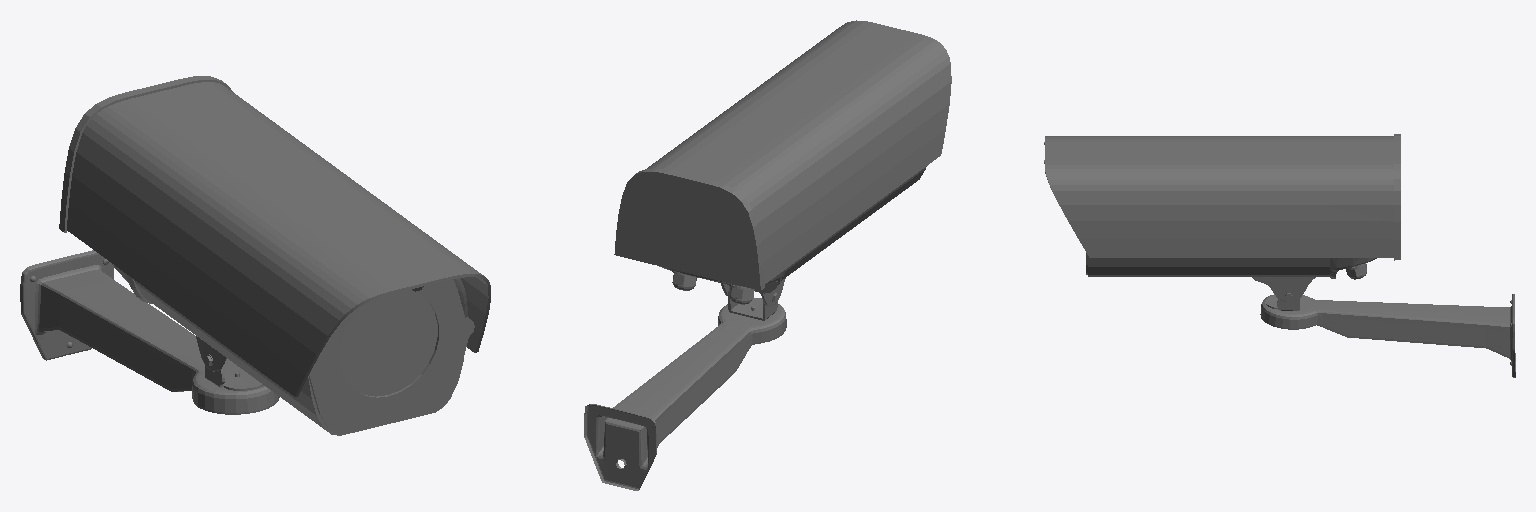
URDF robot description (generic_ip_camera):
<?xml version="1.0"?>
<robot name="generic_ip_camera">

  <link name="ip_camera_link">
  
    <visual>
      <origin xyz="0 0 0" rpy="0 0 0"/>
      <geometry>
        <mesh filename="package://Generic_IP_camera/meshes/IPCamera21.stl" scale="0.001 0.001 0.001"/>
      </geometry>
      <material name="gray">
        <color rgba="0.5 0.5 0.5 1.0"/>
      </material>
    </visual>

    <collision>
      <origin xyz="0 0 0" rpy="0 0 0"/>
      <geometry>
        <mesh filename="package://Generic_IP_camera/meshes/IPCamera21.stl" scale="0.001 0.001 0.001"/>
      </geometry>
    </collision>

    <inertial>
      <mass value="0.15"/>
      <origin xyz="0 0 0" rpy="0 0 0"/>
      <inertia
        ixx="0.0001" ixy="0.0" ixz="0.0"
        iyy="0.0001" iyz="0.0"
        izz="0.0001"/>
    </inertial>
    
  </link>

</robot>

--- Render facts (derived) ---
Views: 3 orthographic renders of the robot side by side, from view 1: azimuth 30°, elevation 25°; view 2: azimuth 150°, elevation 25°; view 3: azimuth 270°, elevation 25°.
Robot: generic_ip_camera — 1 links, 0 joints (none); root link ip_camera_link; default pose: every joint at zero.
Links seen in each view (by area): view 1: ip_camera_link; view 2: ip_camera_link; view 3: ip_camera_link.
Boxes of the visible links, box(x1,y1,x2,y2) form: ip_camera_link: box(20, 76, 490, 435); ip_camera_link: box(584, 20, 951, 490); ip_camera_link: box(1044, 134, 1515, 377).
Bounding box of the posed robot: 0.075 × 0.2449 × 0.1265 m (x, y, z).
1 mesh visuals loaded from 1 distinct referenced files (1 binary STL).